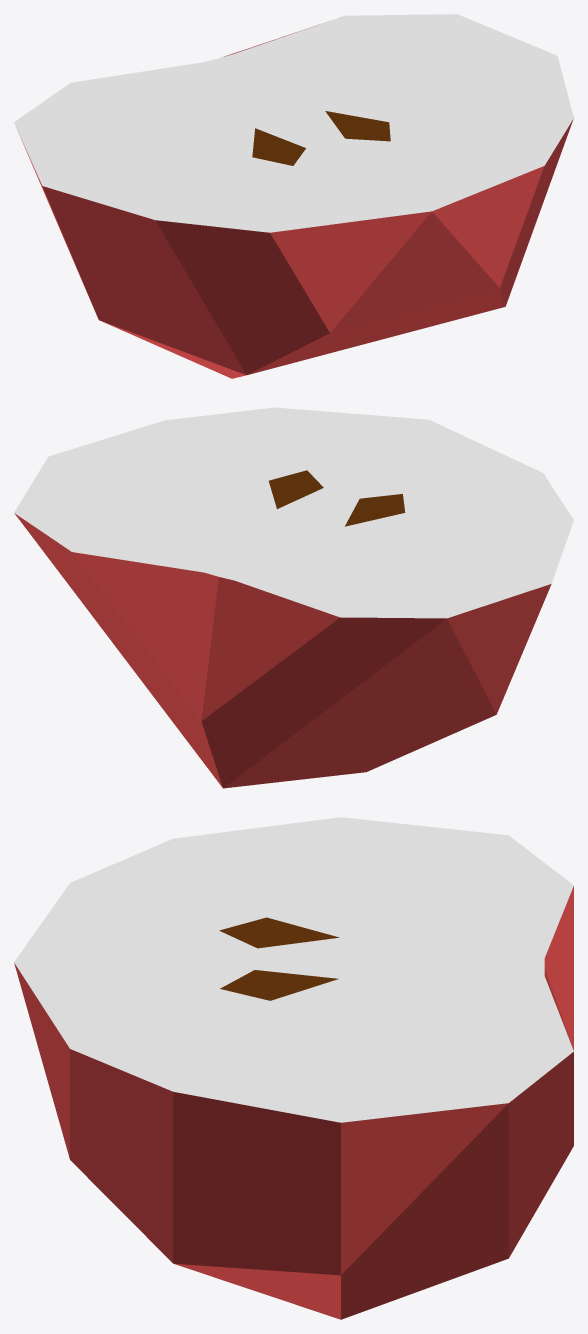
Rendered from applered02.obj.
The picture shows the model from 3 angles, top to bottom: view 1: azimuth 30°, elevation 25°; view 2: azimuth 150°, elevation 25°; view 3: azimuth 270°, elevation 25°; orthographic projection. The views are drawn at different scales.
Visible parts, largest first — view 1: Icosphere; view 2: Icosphere; view 3: Icosphere.
Boxes of the visible parts, x1,y1,x2,y2 form: Icosphere: [14, 14, 573, 378]; Icosphere: [14, 407, 573, 788]; Icosphere: [14, 817, 573, 1319].
Size of the model in its own units: 0.0974 by 0.0447 by 0.0741.
1 material, 1 textured.
